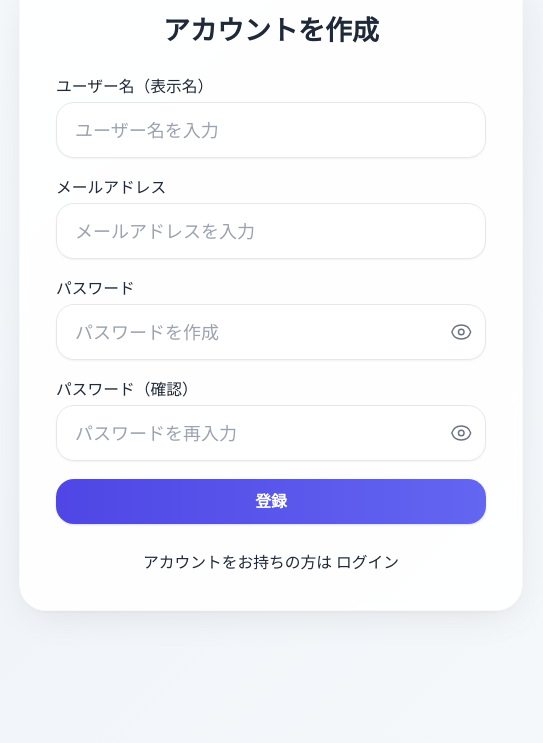
Test: AuthForm › register mode › validation › should show error when username contains symbols
This screenshot has width=543, height=743.
Type "test@user" into the field labelled "ユーザー名（表示名）".
click(271, 130); type("test@user")  # box left=56, top=102, right=486, bottom=158
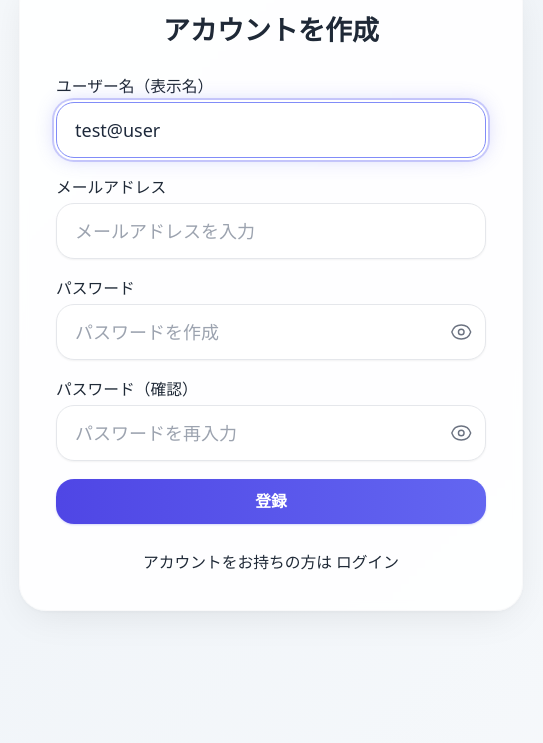
Click the button "登録".
click(271, 502)  # box left=56, top=479, right=486, bottom=524
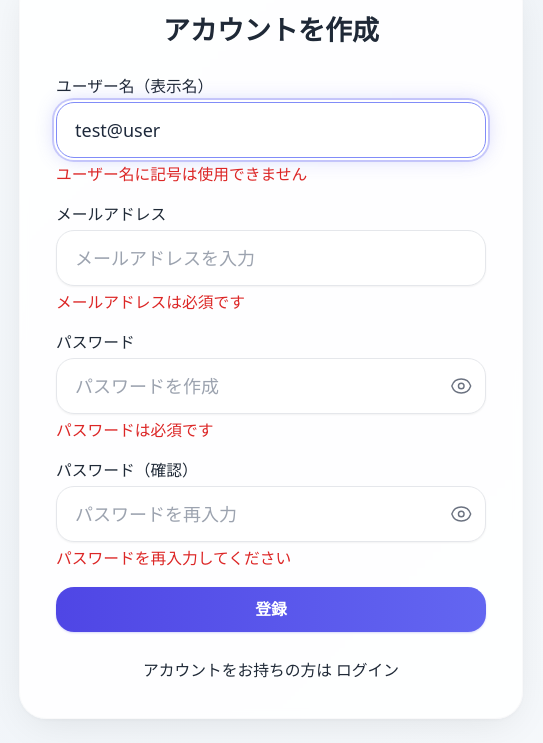
expect the text "ユーザー名に記号は使用できません" is shown: met, box left=56, top=162, right=307, bottom=184
